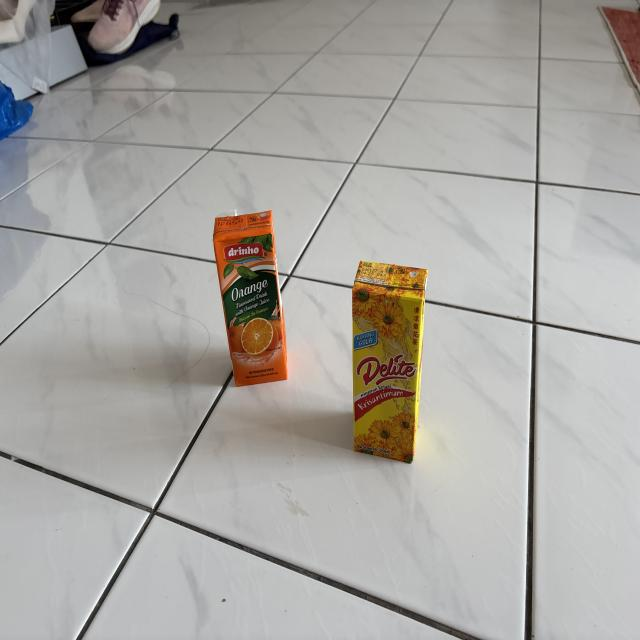drink_carton: (344, 252, 432, 471), (206, 197, 294, 393)
